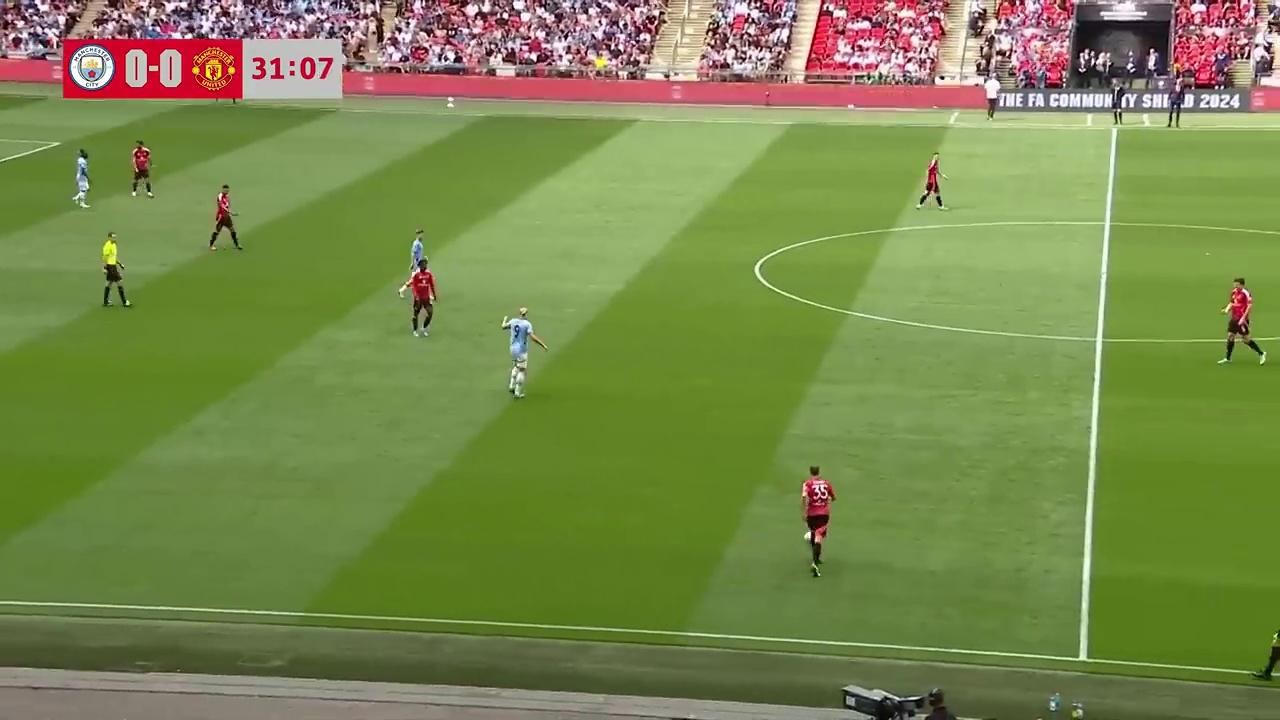player: (501, 307, 547, 398), (1218, 277, 1265, 365), (800, 465, 835, 578), (403, 262, 439, 337), (207, 184, 242, 253), (398, 232, 433, 297), (917, 153, 947, 211), (130, 140, 154, 199), (72, 149, 91, 207)
referee: (100, 230, 131, 308)
